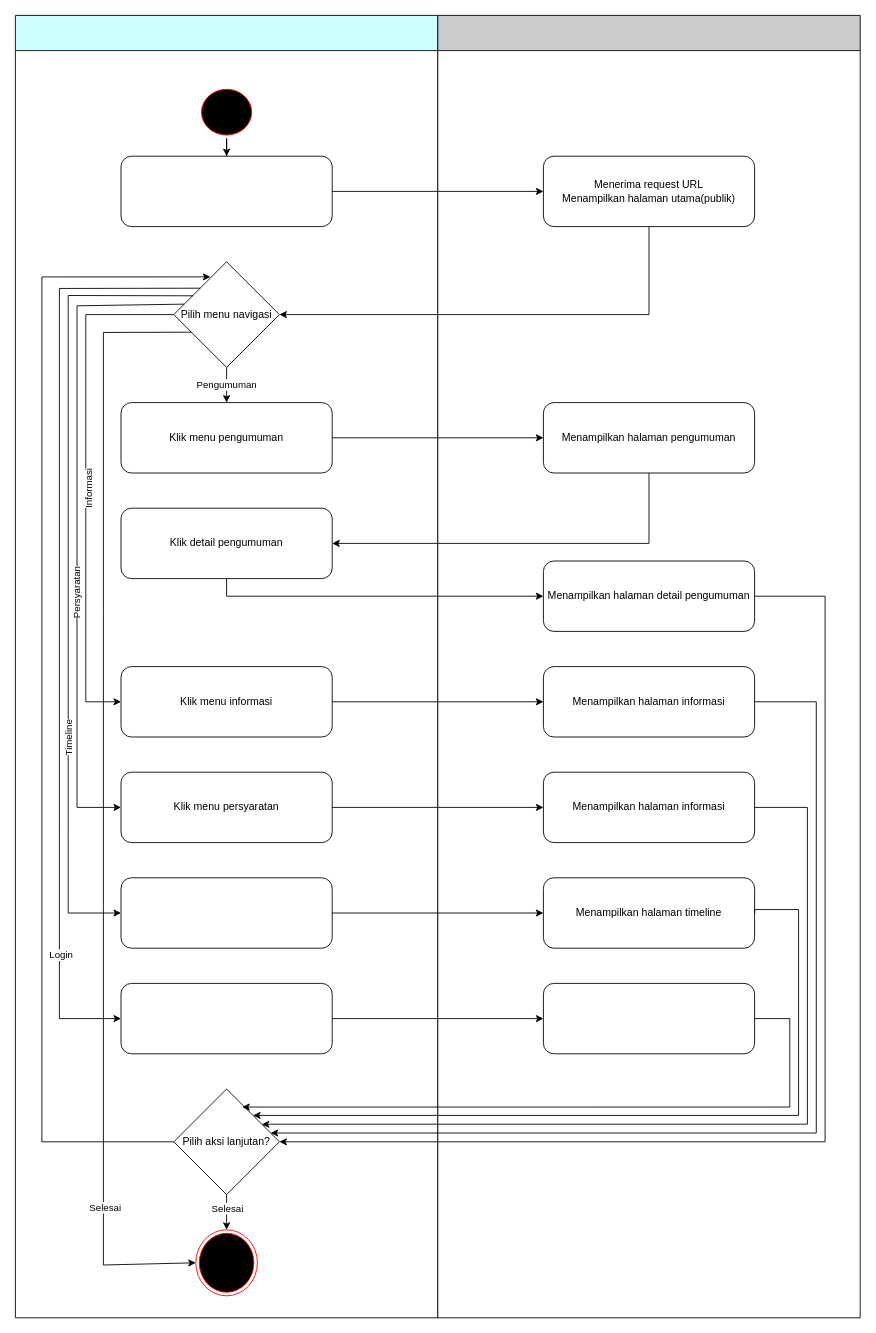
Some shapes in this 876 by 1333 pixel diagram are drawn without their labels. Each missing label, with the box of its shape:
Klik menu timeline: (120, 877, 332, 948)
Klik tombol login: (120, 983, 332, 1054)
Membuka website KKN Internasional: (120, 155, 332, 227)
Menampilkan halaman login: (543, 983, 755, 1054)
Sistem KKN Internasional: (437, 15, 860, 1318)
Tamu: (15, 15, 438, 1318)
